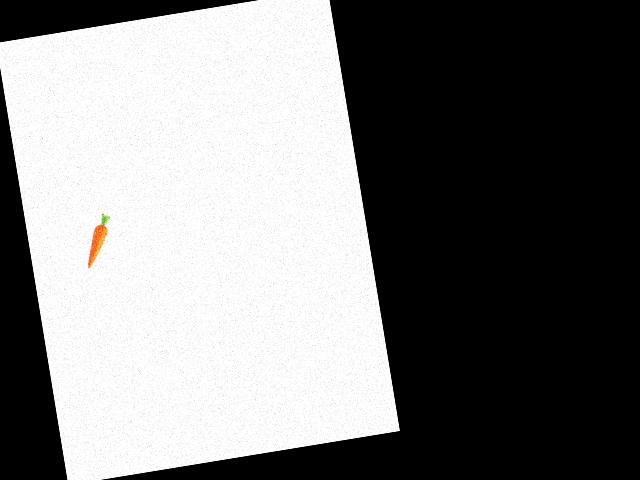carrot: (78, 218, 113, 270)
